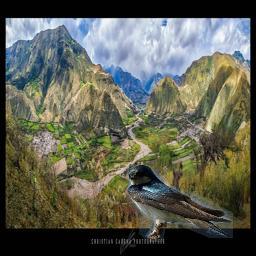Swallow: (127, 165, 233, 242)
